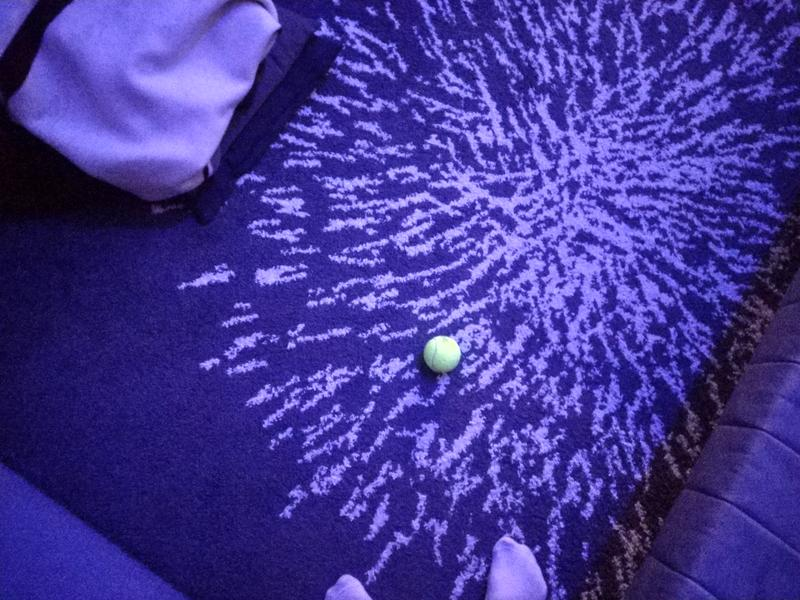Tennisball: (422, 332, 463, 375)
